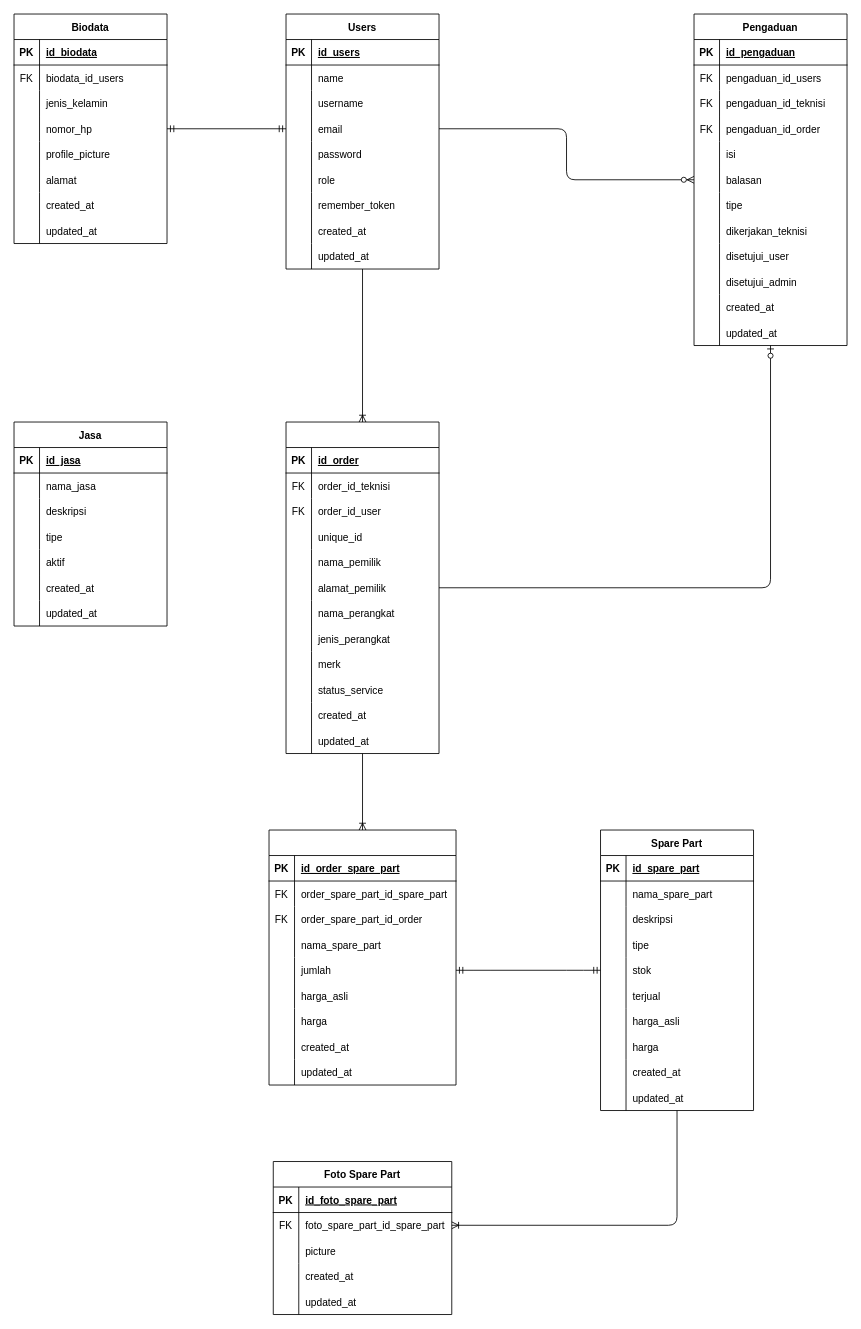
The diagram is 861 pixels wide and 1329 high, and some of its shapes have lost their labels. Here are the shapes that lost their labels. From the top down, the box of each, then its label:
(285, 421, 439, 754): Orders
(268, 829, 456, 1085): Orders Spare Part
